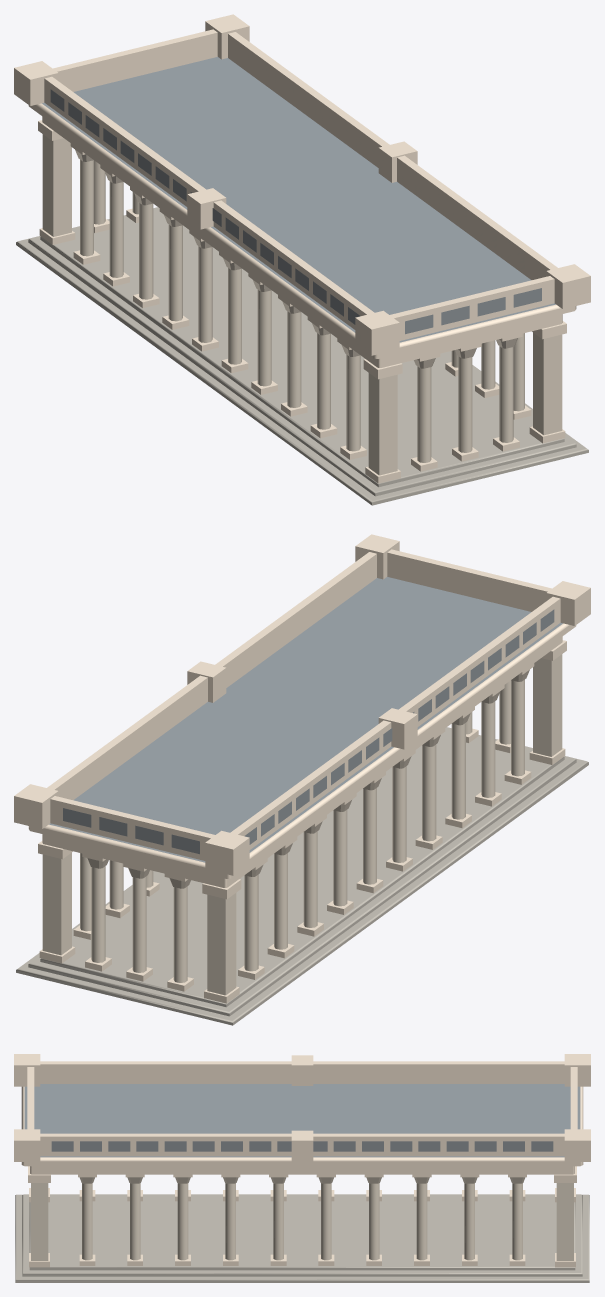
File: nyc-peristyle.glb
3 views of the same model, one above another, from view 1: azimuth 30°, elevation 25°; view 2: azimuth 150°, elevation 25°; view 3: azimuth 270°, elevation 25° (orthographic). The views are drawn at different scales.
Parts seen in each view (by area): view 1: Peristyle (Grecian Shelter); view 2: Peristyle (Grecian Shelter); view 3: Peristyle (Grecian Shelter).
Boxes of the visible parts, x1,y1,x2,y2 form: Peristyle (Grecian Shelter): (14, 14, 590, 505); Peristyle (Grecian Shelter): (14, 534, 590, 1025); Peristyle (Grecian Shelter): (14, 1054, 590, 1282).
Bounding box in the file's own units: 8.54 × 6.58 × 24.1.
